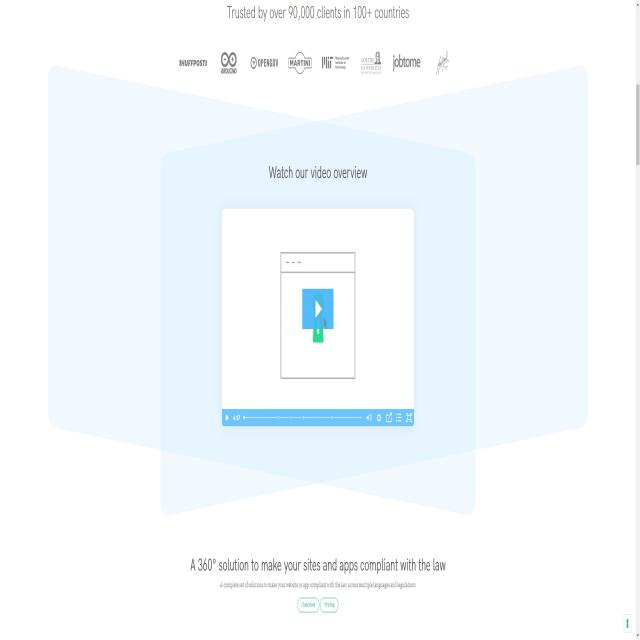control-bar: (220, 407, 413, 426)
tab-bar: (169, 44, 459, 86)
